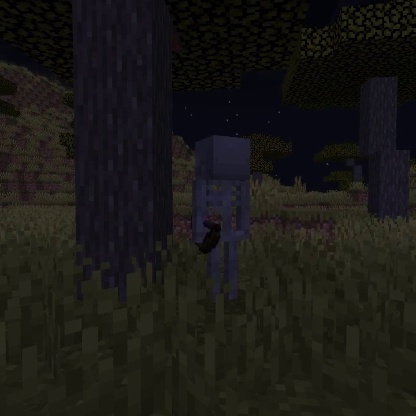skeleton: (187, 130, 257, 304)
